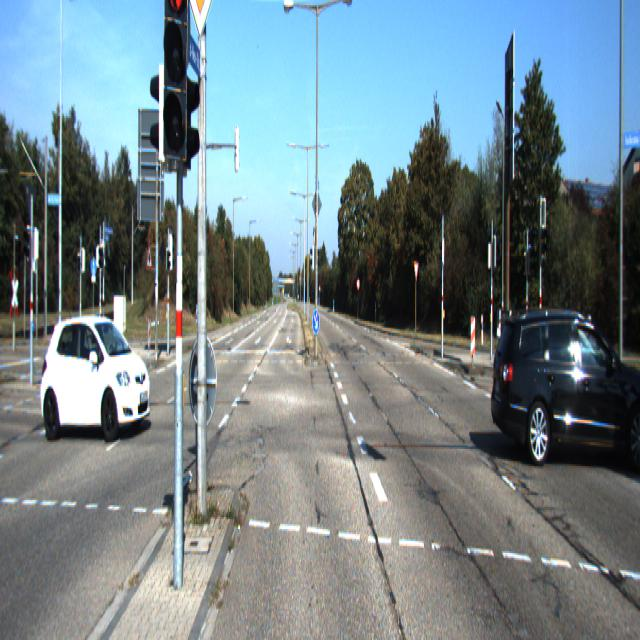Car: (489, 303, 640, 474), (40, 302, 155, 439)
